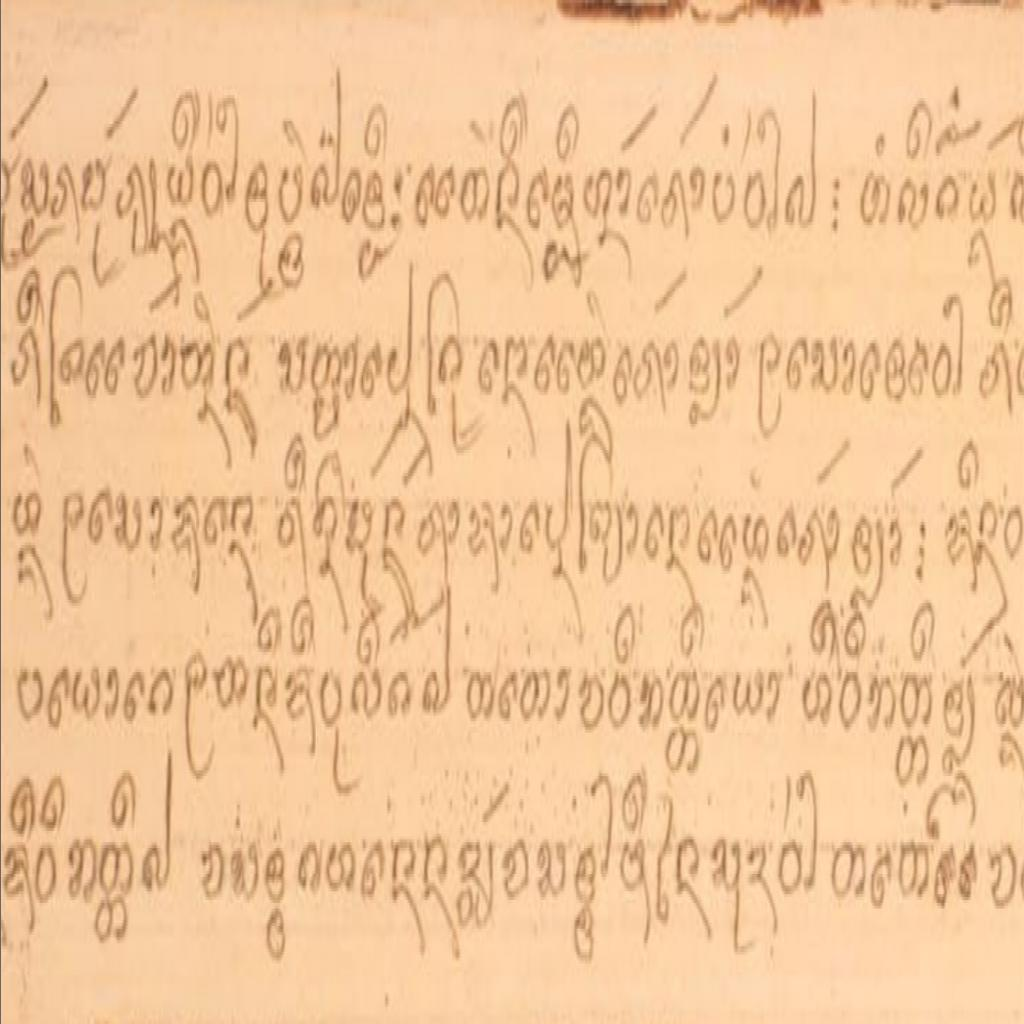LN025: (545, 461, 571, 556)
